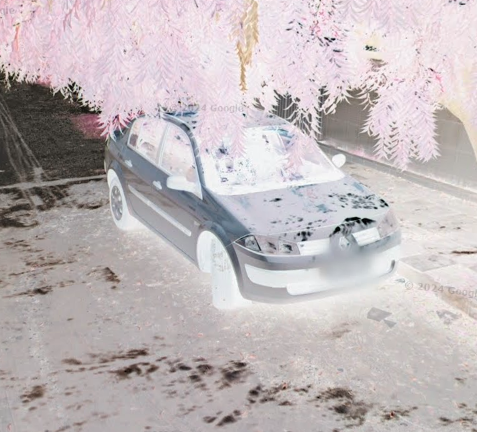car: (103, 101, 400, 310)
